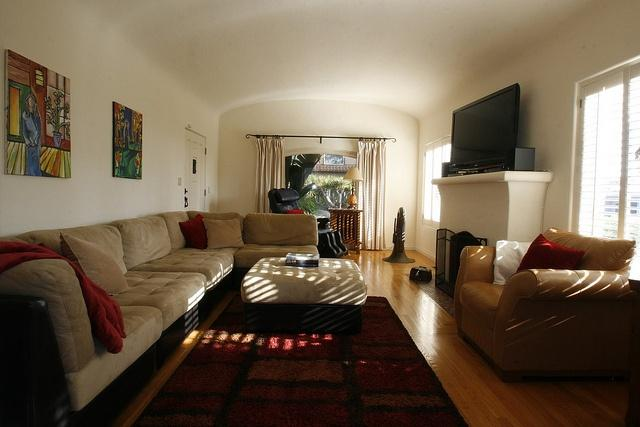AIO PC-Monitor-TV: (447, 82, 519, 175)
